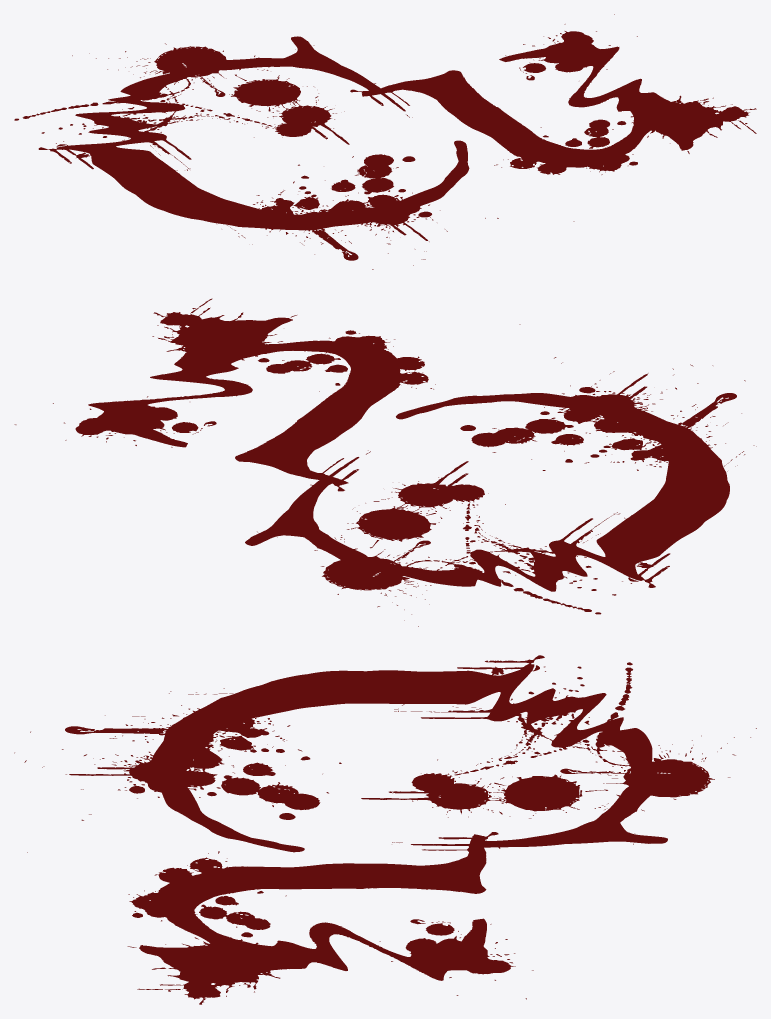
The picture shows the model from 3 angles, top to bottom: view 1: azimuth 30°, elevation 25°; view 2: azimuth 150°, elevation 25°; view 3: azimuth 270°, elevation 25°; orthographic projection. The views are drawn at different scales.
Parts seen in each view (by area): view 1: Text; view 2: Text; view 3: Text.
Part boxes in pixels (box(x1,y1,x2,y2)): Text: box(14, 14, 756, 269); Text: box(14, 298, 756, 626); Text: box(14, 655, 756, 1004).
Size of the model in its own units: 18.24 by 2.67e-06 by 16.39.
